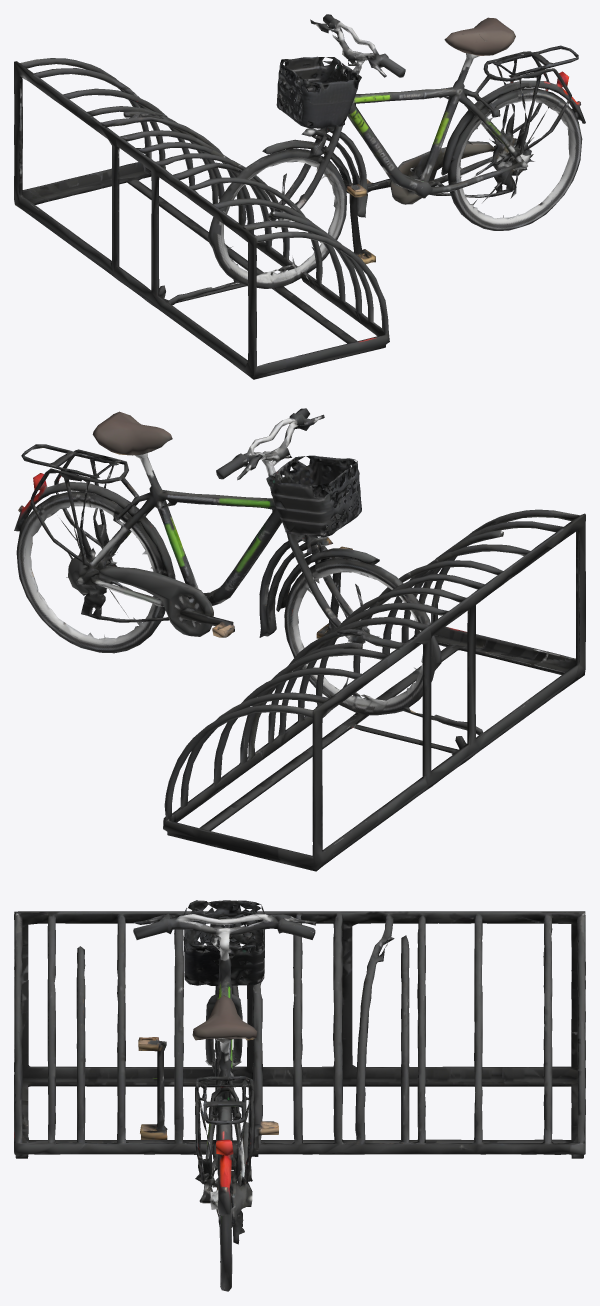
The model's file is bisikletparki.fbx.
3 views of the same model, one above another, from view 1: azimuth 30°, elevation 25°; view 2: azimuth 150°, elevation 25°; view 3: azimuth 270°, elevation 25° (orthographic). The views are drawn at different scales.
Visible parts, largest first — view 1: Mesh_0; view 2: Mesh_0; view 3: Mesh_0.
Part boxes in pixels (<box>): Mesh_0: <box>14,14,585,379</box>; Mesh_0: <box>14,408,585,871</box>; Mesh_0: <box>14,900,585,1291</box>.
Size of the model in its own units: 191 by 102 by 190.
Materials: 1 (1 with a texture image).
